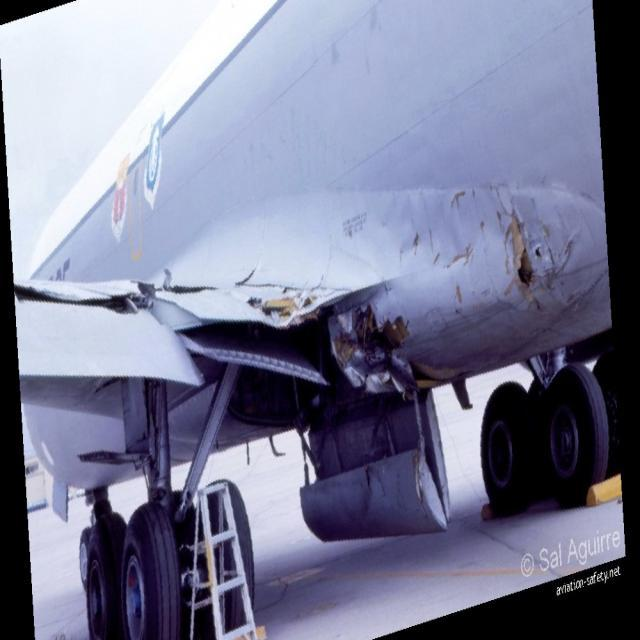crack: (508, 210, 551, 314)
dent: (383, 193, 506, 295)
